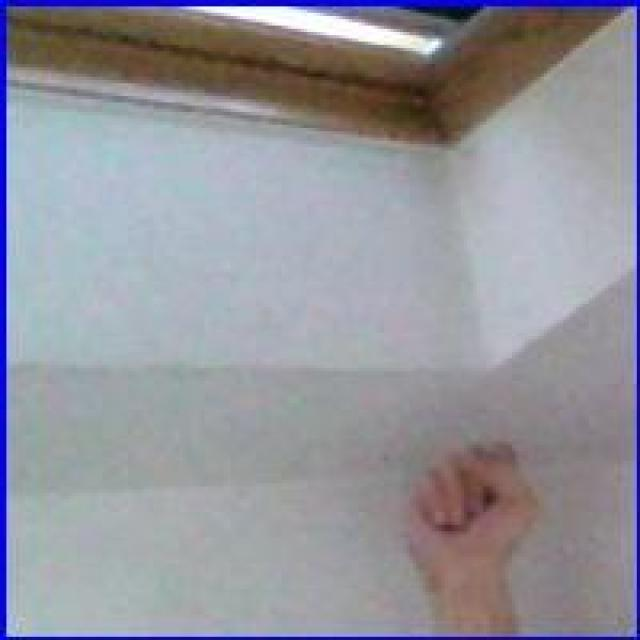S: (394, 440, 540, 581)
